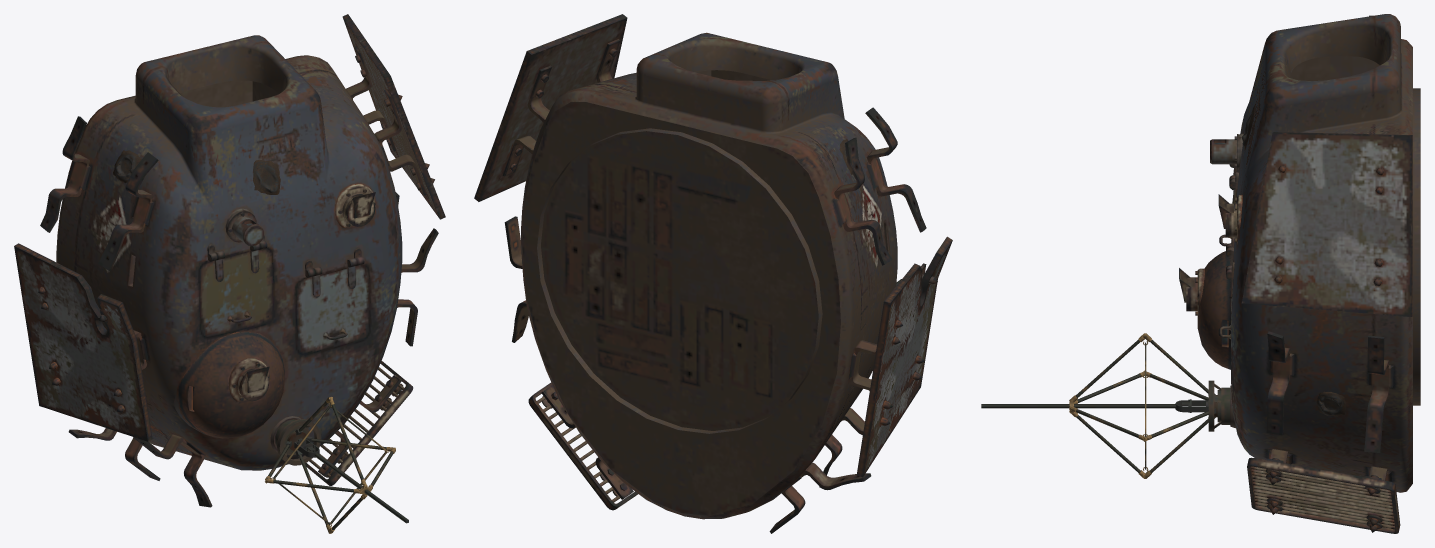
The model's file is Turret_01.glb.
3 views of the same model, side by side, from view 1: azimuth 30°, elevation 25°; view 2: azimuth 150°, elevation 25°; view 3: azimuth 270°, elevation 25° (orthographic). The views are drawn at different scales.
Parts seen in each view (by area): view 1: set_0_group_0, set_0_group_1, set_0_group_2; view 2: set_0_group_0; view 3: set_0_group_0, set_0_group_1, set_0_group_2.
Boxes of the visible parts, <box> form: set_0_group_0: <box>14,14,445,507</box>; set_0_group_1: <box>265,396,408,533</box>; set_0_group_2: <box>113,150,280,194</box>; set_0_group_0: <box>474,14,952,533</box>; set_0_group_0: <box>1179,14,1420,533</box>; set_0_group_1: <box>981,333,1230,478</box>; set_0_group_2: <box>1241,105,1346,416</box>.
Size of the model in its own units: 2.49 by 2.62 by 2.33.
3 materials, 3 textured.
